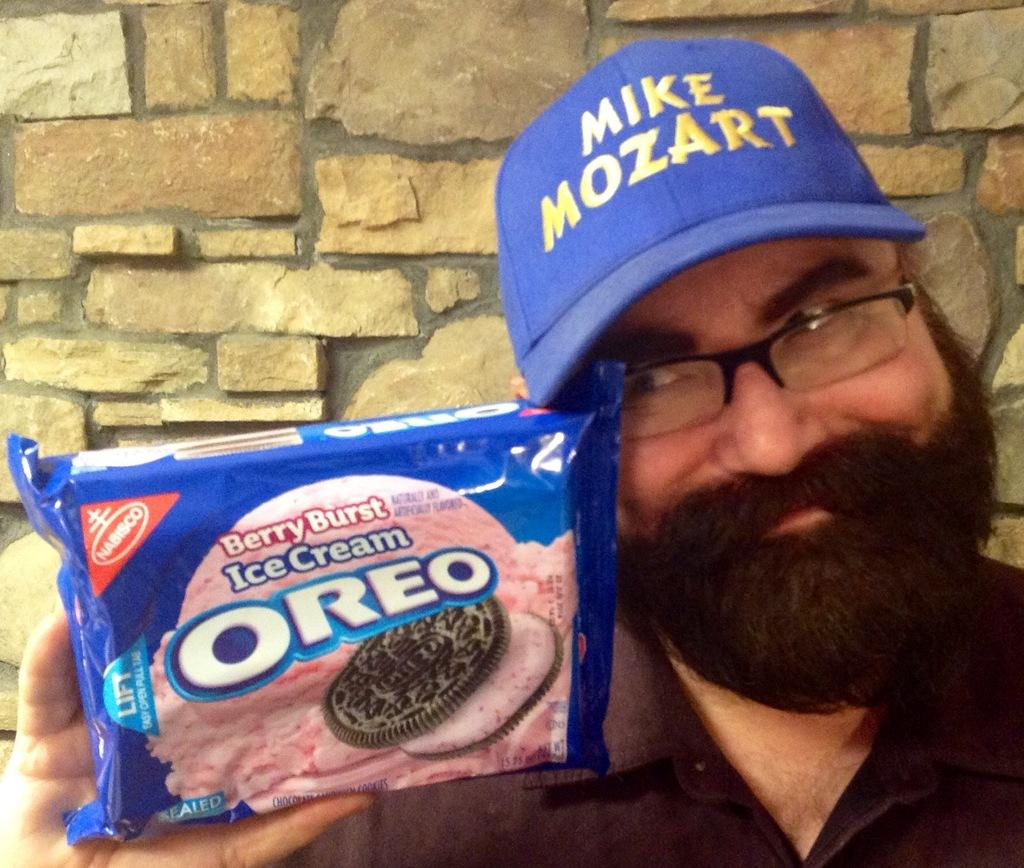Hat: (494, 40, 926, 405)
